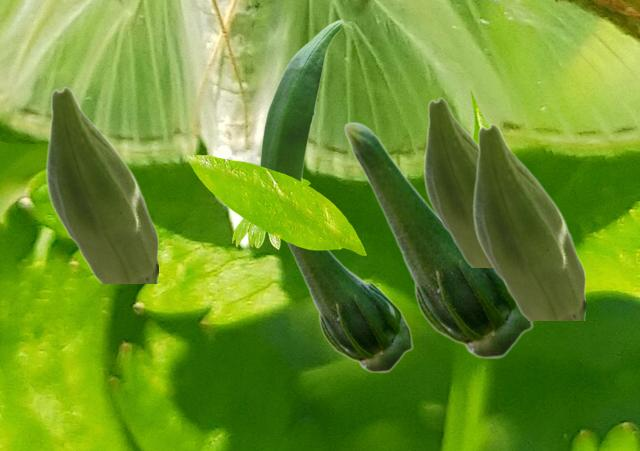okra: (343, 121, 532, 358), (45, 86, 157, 282), (472, 123, 584, 319), (286, 243, 412, 372), (259, 19, 343, 181), (423, 97, 490, 266)
